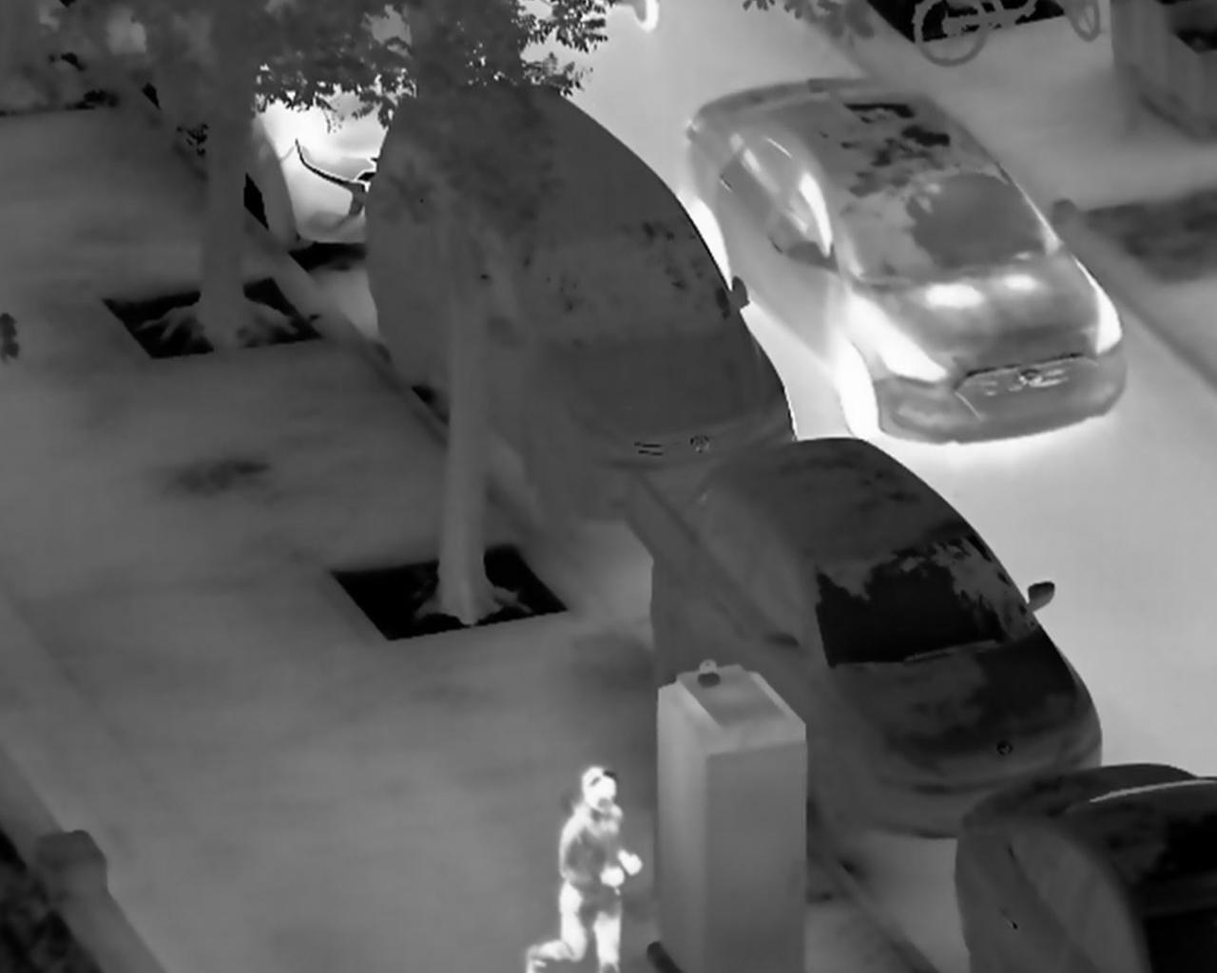person: (521, 764, 646, 973)
